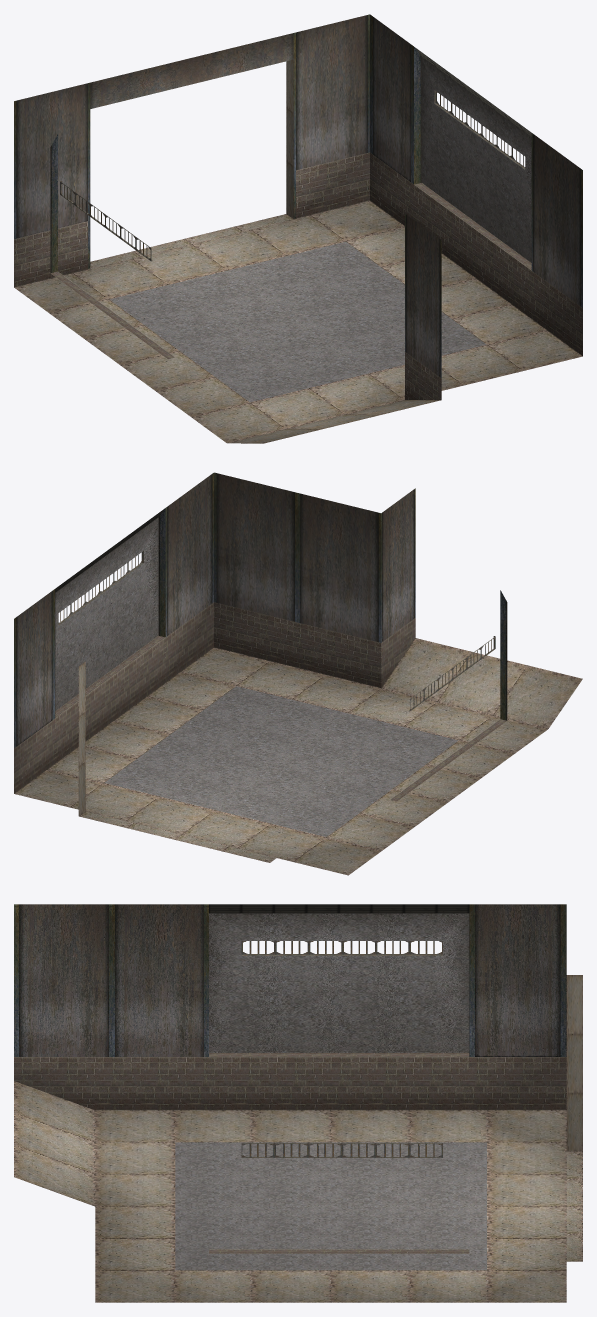
File: M11Z2_SCUDHouse03_B.glb
The picture shows the model from 3 angles, top to bottom: view 1: azimuth 30°, elevation 25°; view 2: azimuth 150°, elevation 25°; view 3: azimuth 270°, elevation 25°; orthographic projection. The views are drawn at different scales.
Parts seen in each view (by area): view 1: M11Z2_SCUDHOUSE03_B; view 2: M11Z2_SCUDHOUSE03_B; view 3: M11Z2_SCUDHOUSE03_B.
Boxes of the visible parts, x1,y1,x2,y2 form: M11Z2_SCUDHOUSE03_B: [14, 14, 582, 443]; M11Z2_SCUDHOUSE03_B: [14, 472, 582, 875]; M11Z2_SCUDHOUSE03_B: [14, 904, 582, 1302].
Size of the model in its own units: 14.79 by 7 by 17.5.
Materials: 9 (9 with a texture image).
